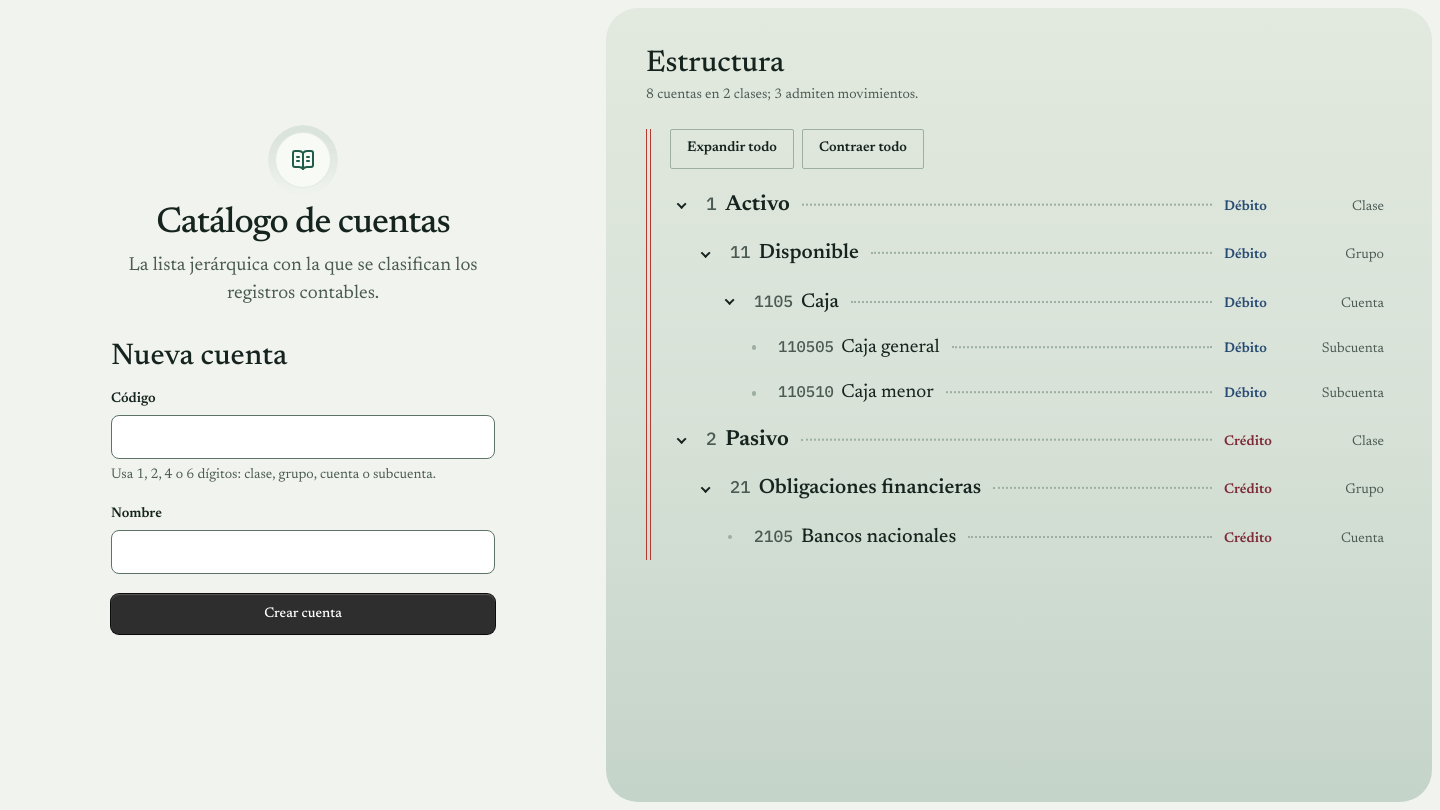
AccountsPage › creating › shows a new account in the tree without reloading the page
Expected: the list is shown, [670, 181, 1392, 560]
Type "3" into the field labelled "Código" at (303, 437), box [111, 415, 495, 459]
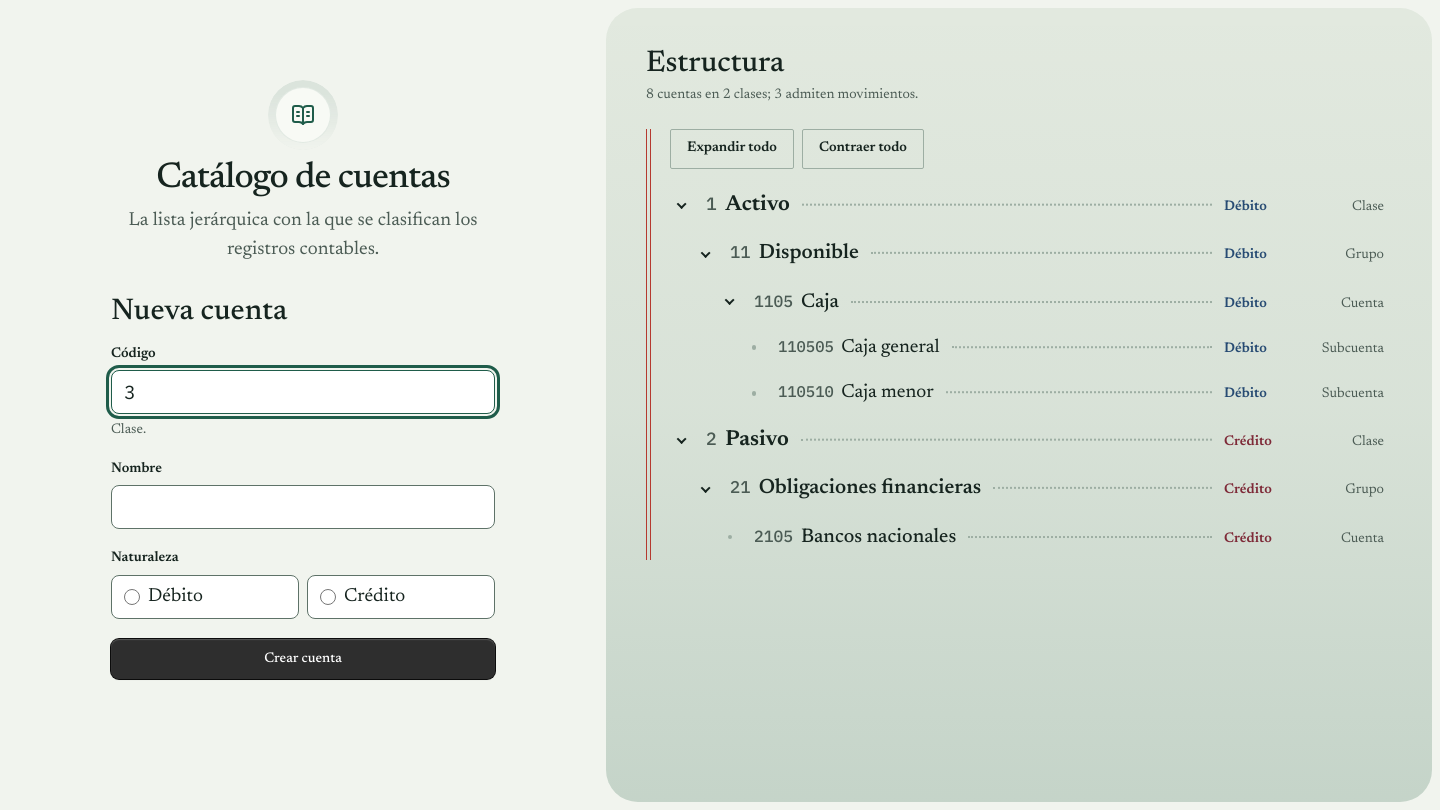
Type "Patrimonio" into the field labelled "Nombre" at (303, 507), box [111, 485, 495, 529]
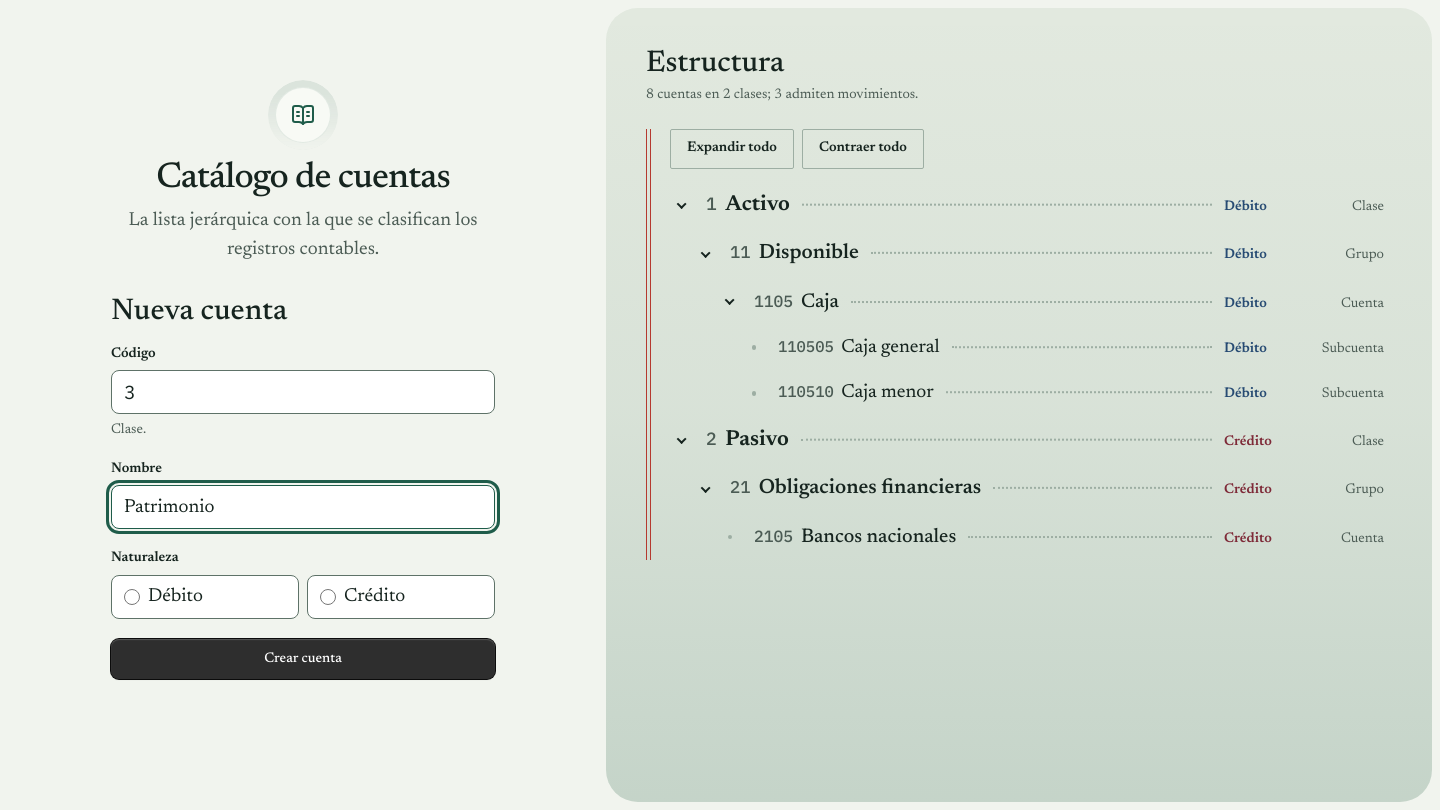
Click the radio button labelled "Crédito" at (328, 597), box [320, 589, 336, 605]
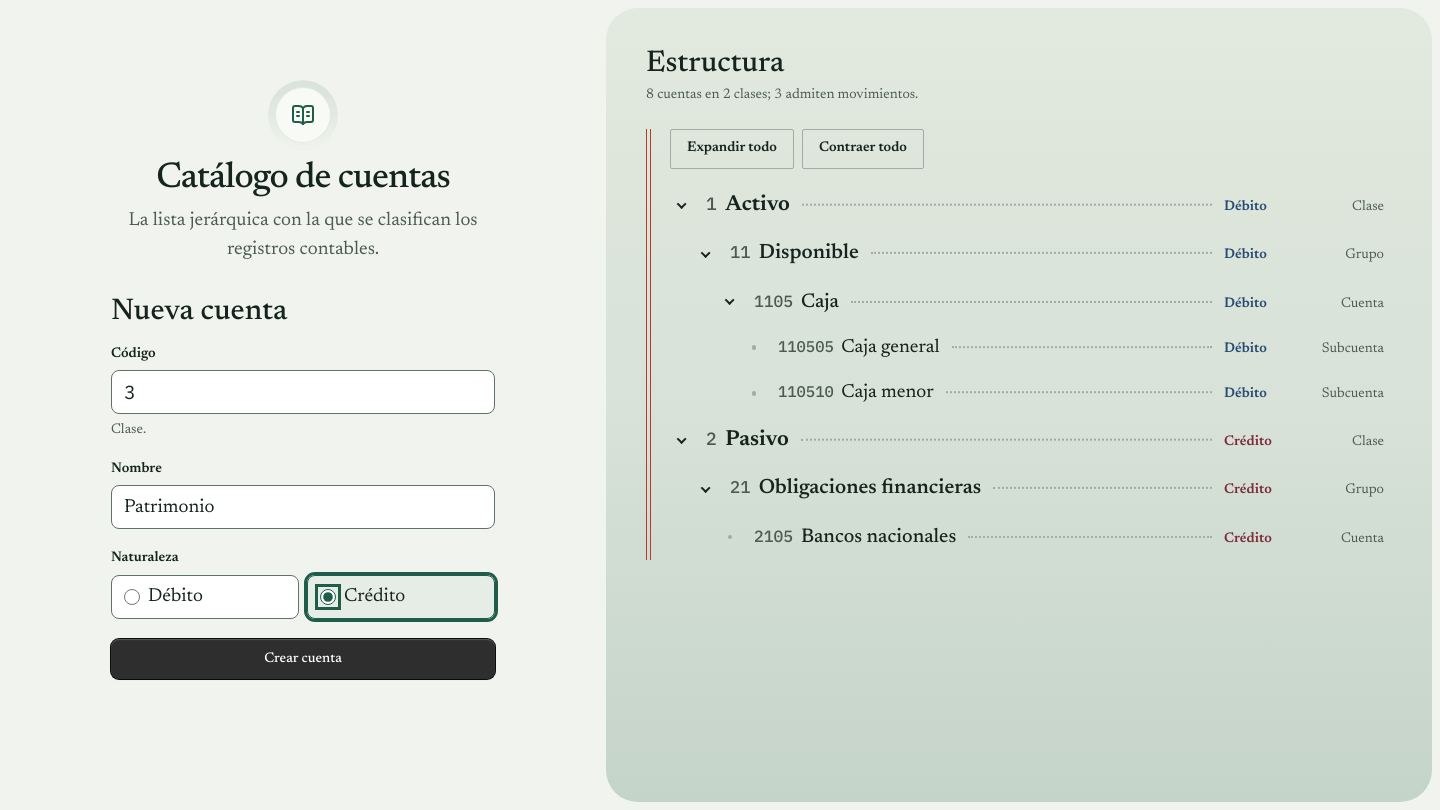
Click the button "Crear cuenta" at (303, 659), box [111, 639, 495, 679]
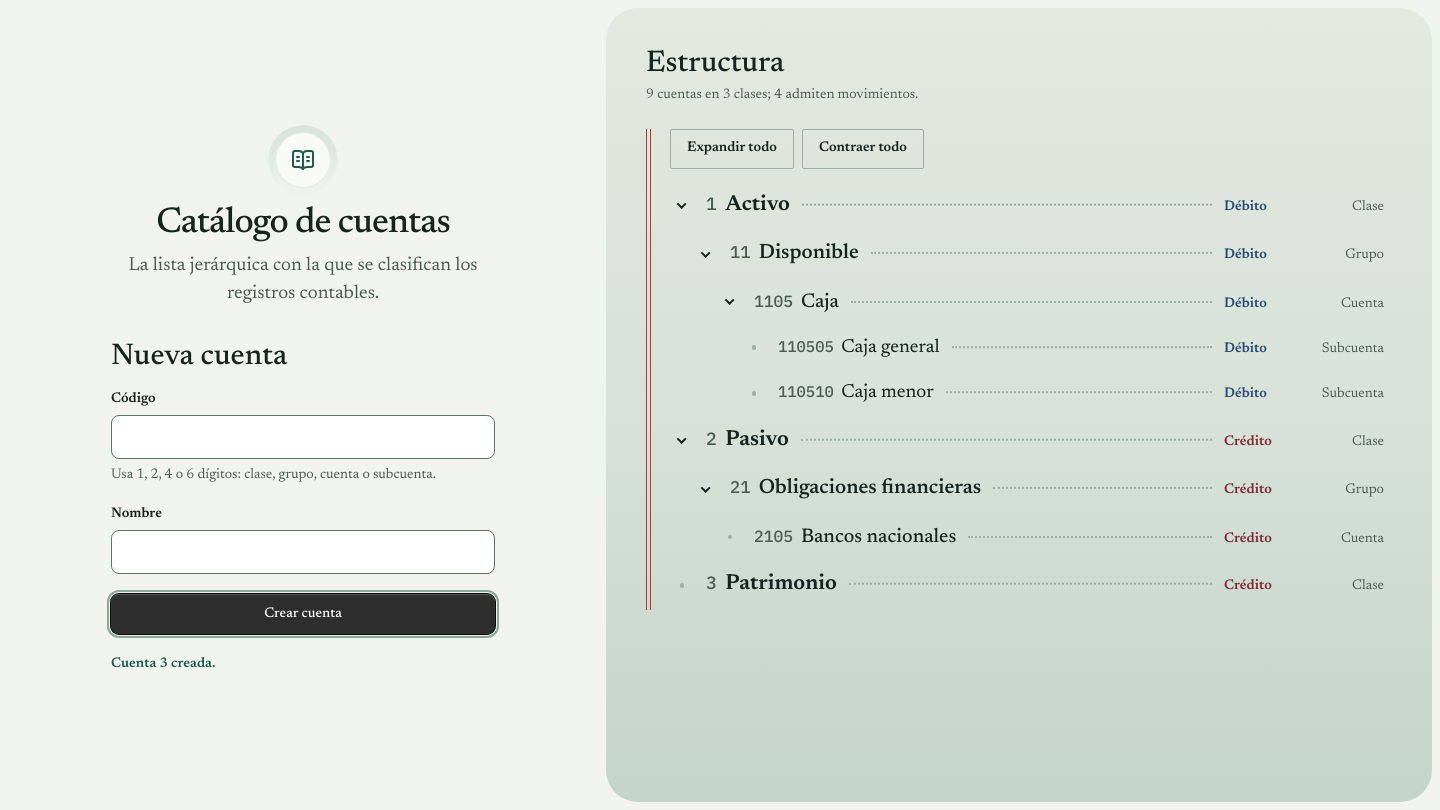
Now the list item "3 Patrimonio Crédito Clase" is shown, box [670, 571, 1384, 597]
